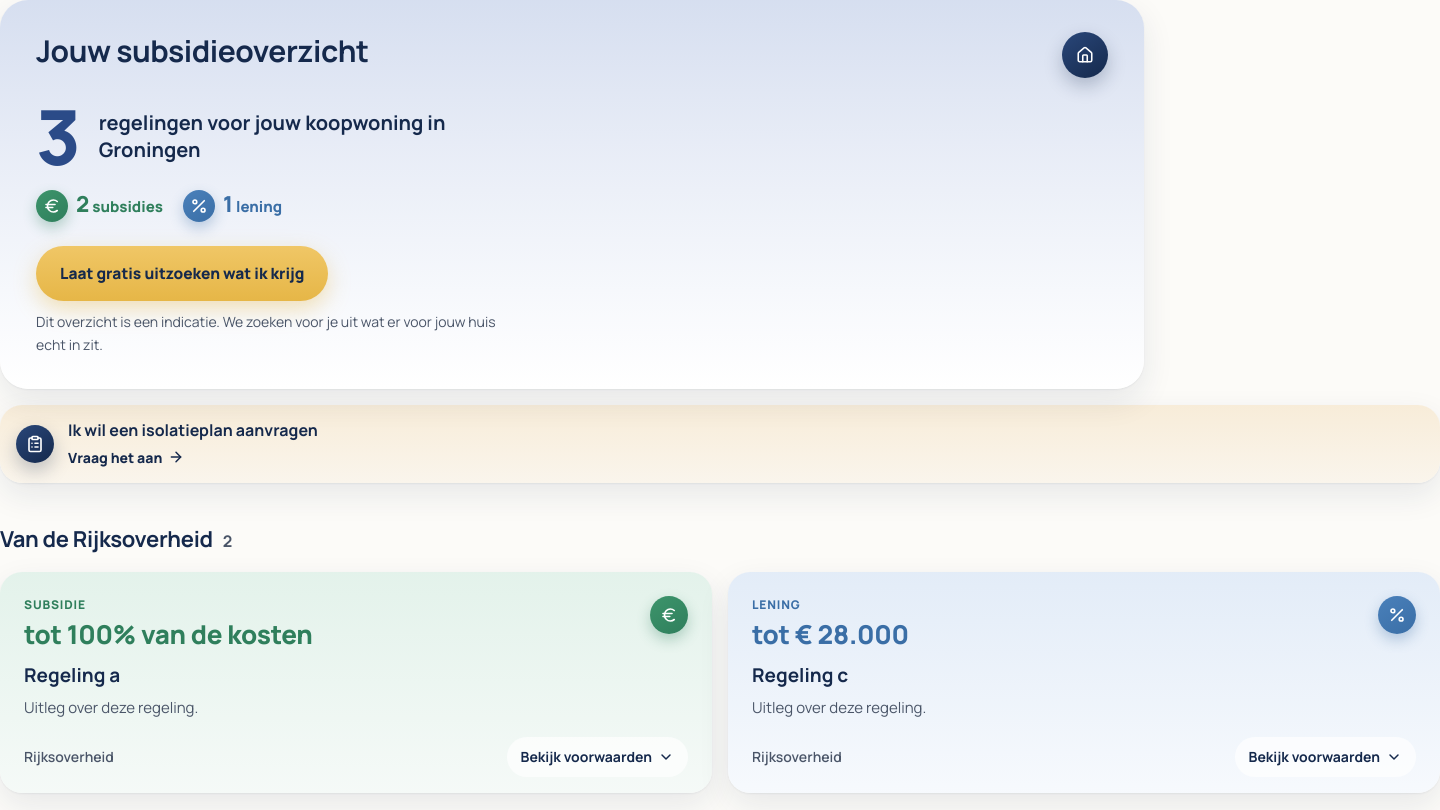
Test: resultaatscherm in de huisstijl › toont een eerlijke melding als het verzoek niet aankomt
The width and height of the screenshot is (1440, 810).
Click the button "Laat gratis uitzoeken wat ik krijg".
click(182, 274)  # box [36,246,328,301]
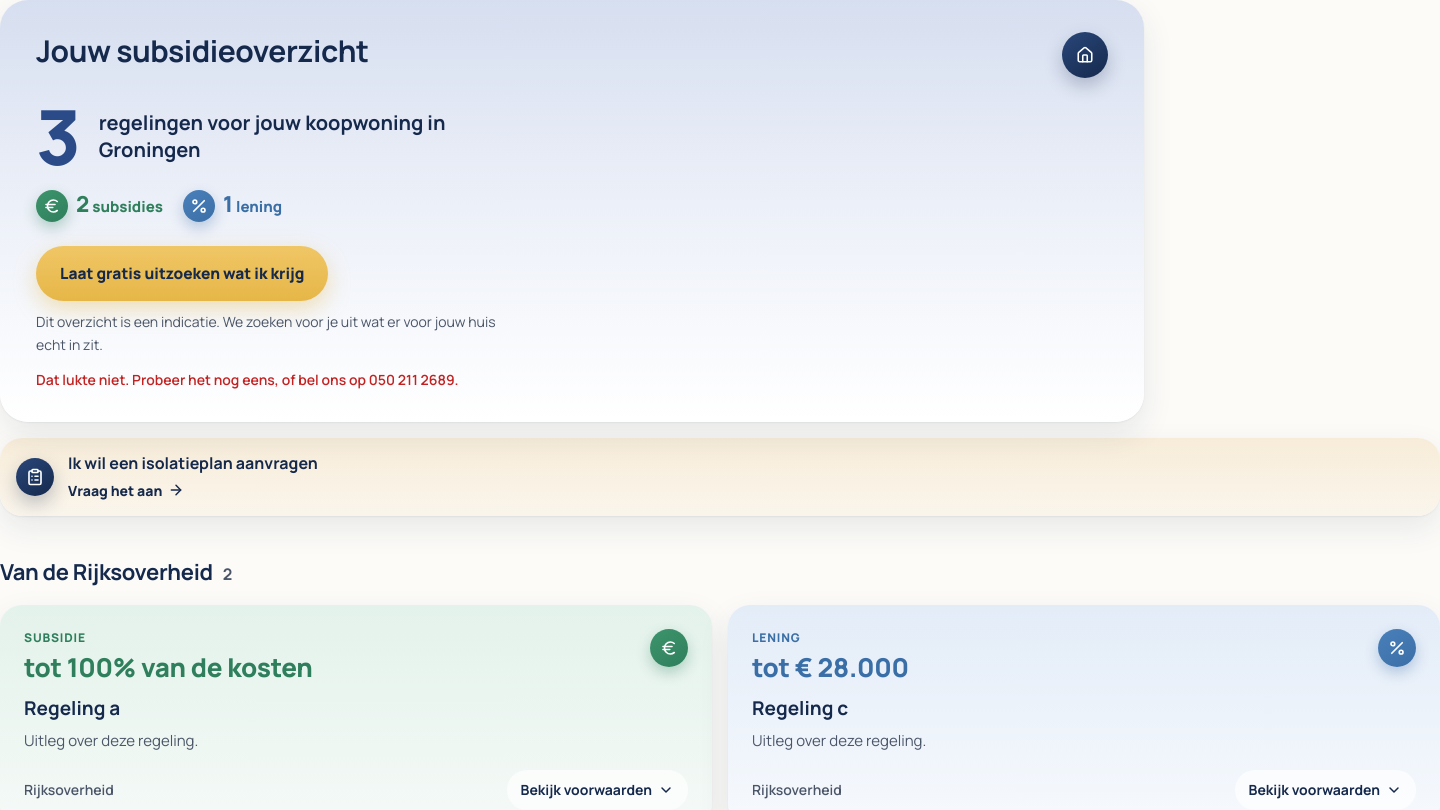
Now the message reads "Dat lukte niet. Probeer het nog eens, of bel ons op 050 211 2689.", box [36,370,458,389]
